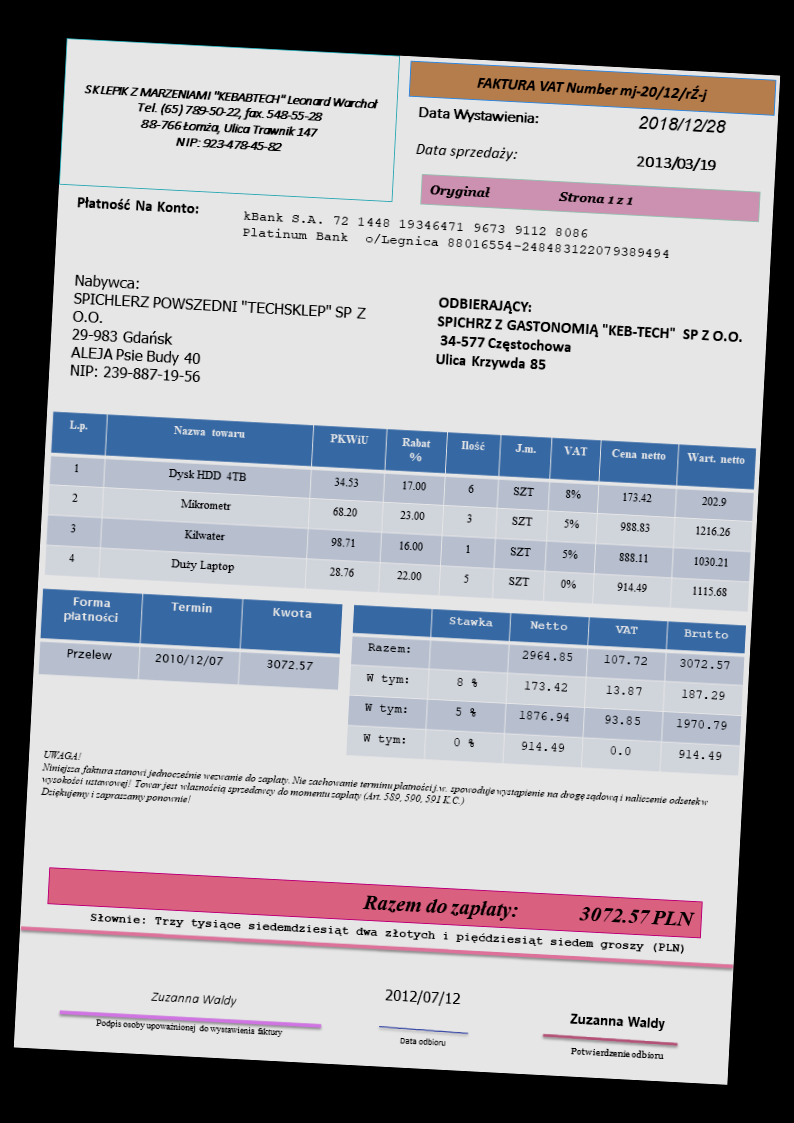Table: (42, 407, 759, 615), (344, 601, 749, 777), (37, 585, 344, 691)
TextBox: (38, 746, 714, 834), (67, 270, 370, 395), (431, 293, 746, 385), (87, 909, 687, 957), (79, 80, 383, 162), (238, 206, 674, 263), (359, 888, 698, 933), (474, 73, 711, 104), (427, 180, 636, 212), (92, 1014, 286, 1040), (415, 101, 542, 130), (410, 137, 522, 165), (74, 194, 203, 217), (565, 1007, 669, 1033), (636, 111, 729, 139), (146, 986, 240, 1010), (568, 1041, 666, 1064), (379, 984, 463, 1009), (632, 152, 719, 175), (396, 1031, 449, 1051)
